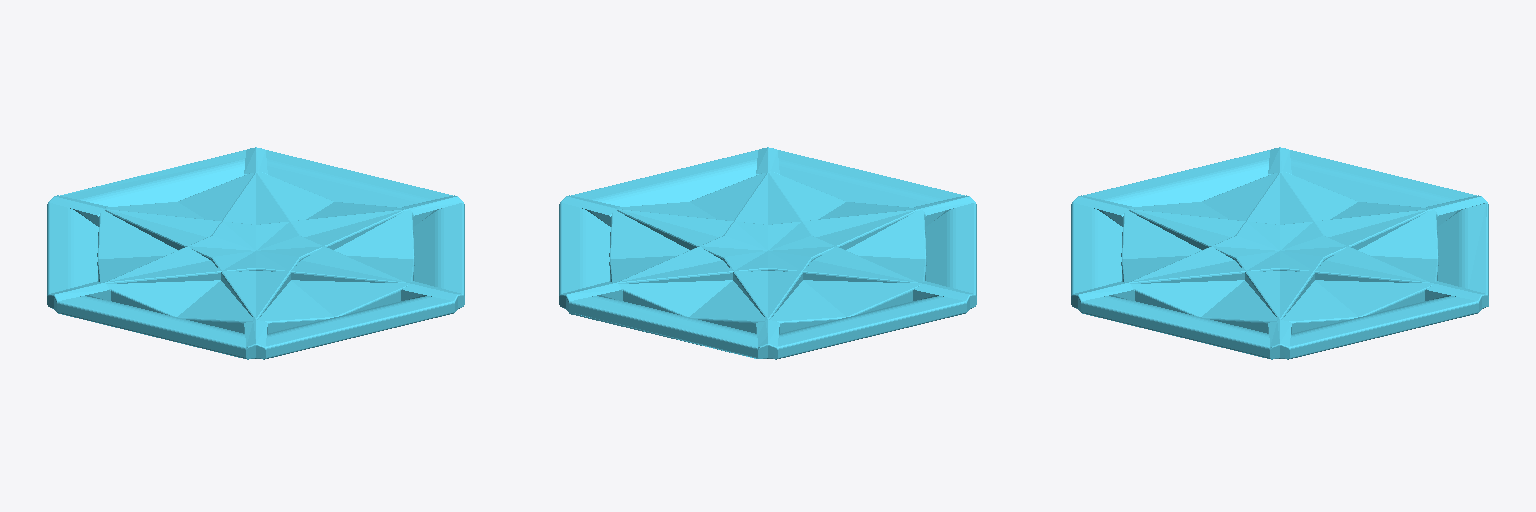
The model's file is baza-3-20.obj.
The picture shows the model from 3 angles: view 1: azimuth 30°, elevation 25°; view 2: azimuth 150°, elevation 25°; view 3: azimuth 270°, elevation 25°; orthographic projection.
Visible parts, largest first — view 1: Plane; view 2: Plane; view 3: Plane.
Part boxes in pixels (x1,y1,x2,y2): Plane: (47,147,464,359); Plane: (559,147,976,359); Plane: (1071,147,1488,359).
Bounding box in the file's own units: 0.3349 × 0.0165 × 0.2969.